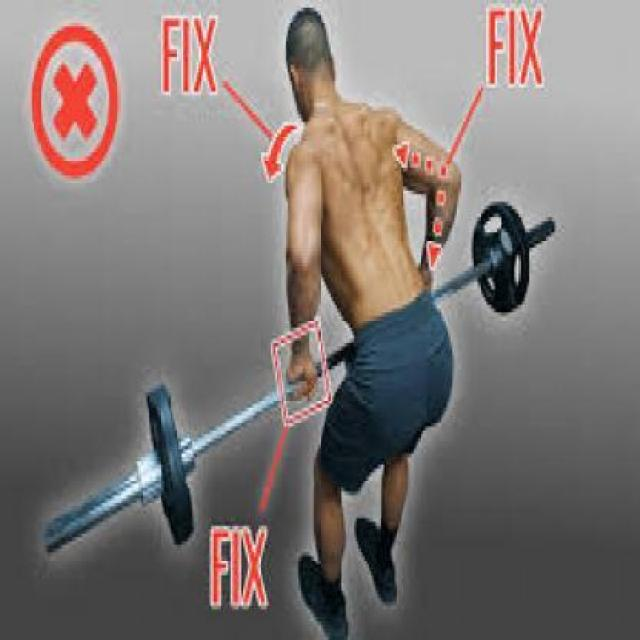barbell: (40, 379, 195, 565)
